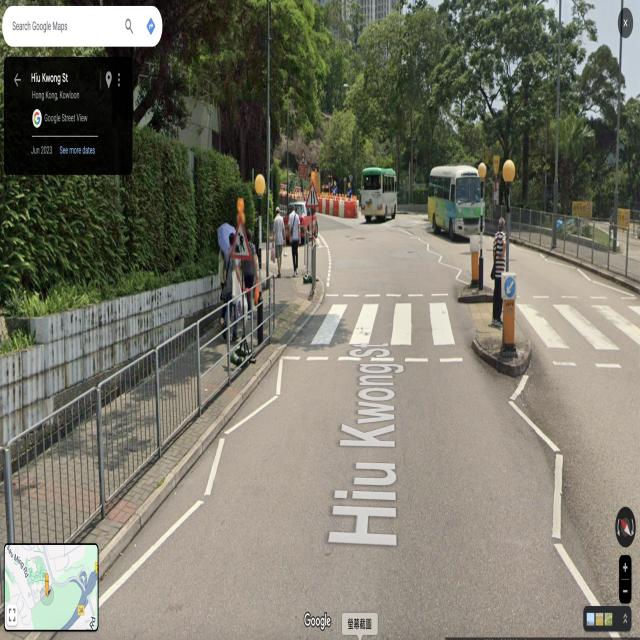Order-Sign: (506, 280, 514, 296), (347, 189, 351, 197), (334, 186, 337, 194)
Warning-Sign: (230, 215, 252, 260), (305, 178, 320, 207), (299, 149, 308, 166), (299, 166, 308, 178)
